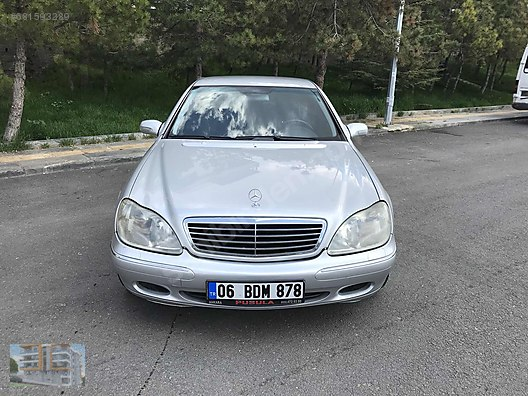mercedes: (109, 67, 401, 310)
